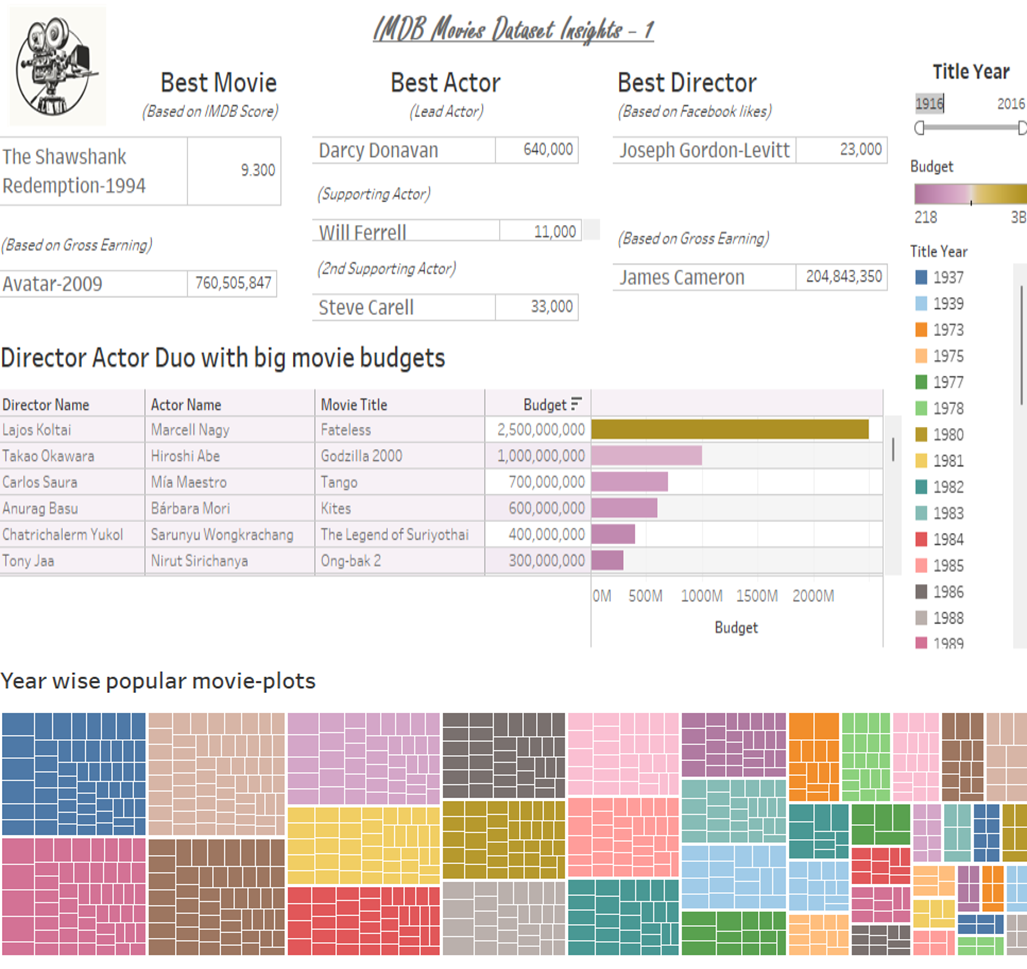

The page's visual inventory and layout, read from the dashboard file:
{"tool":"tableau","page":{"name":"IMDB_Dashboard_1","canvas":[1000,800],"ordinal":0},"visuals":[{"type":"image","param":"C:/Users/kunal/OneDrive/Desktop/Camera.png","box":[6,4,128,94]},{"type":"text","box":[8,8,984,32]},{"type":"worksheet","title":"info_movie1","mark":"Automatic","rows":["Calculation_1065945745804771328","Calculation_1065945745804771328"],"box":[8,40,298,131]},{"type":"worksheet","title":"info_actor1","mark":"Automatic","rows":["Calculation_1065945745804771328","actor_1_name"],"box":[306,40,283,92]},{"type":"worksheet","title":"info_director1","mark":"Automatic","rows":["Calculation_1065945745804771328","director_name (director_info)"],"box":[589,40,280,126]},{"type":"filter","title":"Director_Actor_Duo","param":"[federated.1h2nngk11xm7ej1aov2dz1e3h9nu].[none:title_year:qk]","box":[869,40,123,75]},{"type":"legend","title":"Director_Actor_Duo","param":"[federated.1h2nngk11xm7ej1aov2dz1e3h9nu].[sum:budget:qk]","box":[869,115,123,65]},{"type":"worksheet","title":"info_actor2","mark":"Automatic","rows":["Calculation_1065945745804771328","actor_2_name"],"box":[306,132,283,57]},{"type":"worksheet","title":"info_director2","mark":"Automatic","rows":["Calculation_1065945745804771328","director_name"],"box":[589,166,280,84]},{"type":"worksheet","title":"info_movie2","mark":"Automatic","rows":["Calculation_1065945745804771328","Calculation_1065945745804771328"],"box":[8,171,298,79]},{"type":"legend","title":"Movie_Plots","param":"[federated.0dhmt3z0kmorl516e6e3f1chp173].[none:title_year:ok]","box":[869,180,123,320]},{"type":"worksheet","title":"info_actor3","mark":"Automatic","rows":["Calculation_1065945745804771328","actor_3_name"],"box":[306,189,283,61]},{"type":"worksheet","title":"Director_Actor_Duo","mark":"Automatic","rows":["director_name","actor_name","movie_title","budget"],"cols":["budget"],"box":[8,250,861,250]},{"type":"worksheet","title":"Movie_Plots","mark":"Automatic","box":[8,500,984,292]}]}

Visuals, with their boxes on the page's 1000x800 design canvas (x1, y1, x2, y2). These are canvas units, not pixel positions in the 1027x969 screenshot, which may show the page scaled, cropped or inside an application window:
image: 6, 4, 134, 98
text: 8, 8, 992, 40
"info_movie1" worksheet: 8, 40, 306, 171
"info_actor1" worksheet: 306, 40, 589, 132
"info_director1" worksheet: 589, 40, 869, 166
"Director_Actor_Duo" filter: 869, 40, 992, 115
"Director_Actor_Duo" legend: 869, 115, 992, 180
"info_actor2" worksheet: 306, 132, 589, 189
"info_director2" worksheet: 589, 166, 869, 250
"info_movie2" worksheet: 8, 171, 306, 250
"Movie_Plots" legend: 869, 180, 992, 500
"info_actor3" worksheet: 306, 189, 589, 250
"Director_Actor_Duo" worksheet: 8, 250, 869, 500
"Movie_Plots" worksheet: 8, 500, 992, 792
